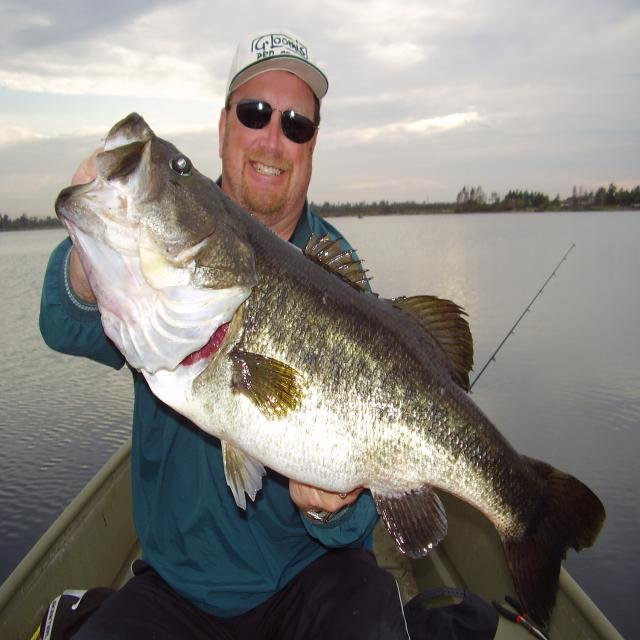Bass - Largemouth: (56, 113, 605, 627)
